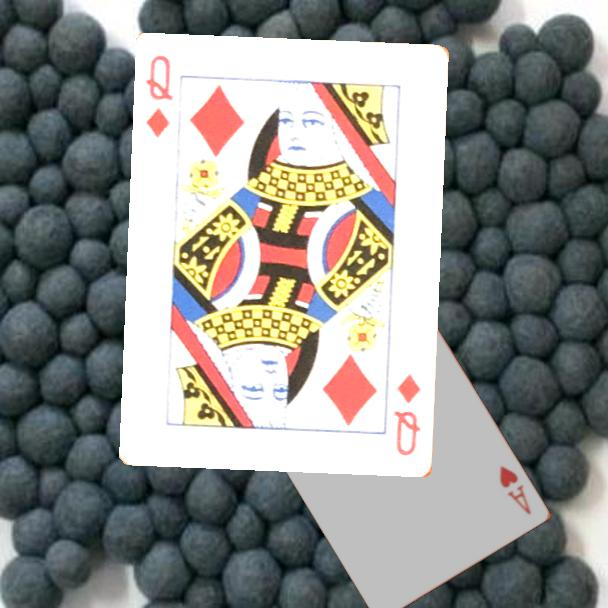d12: (390, 371, 424, 459), (143, 52, 176, 141)
h01: (496, 462, 535, 517)
